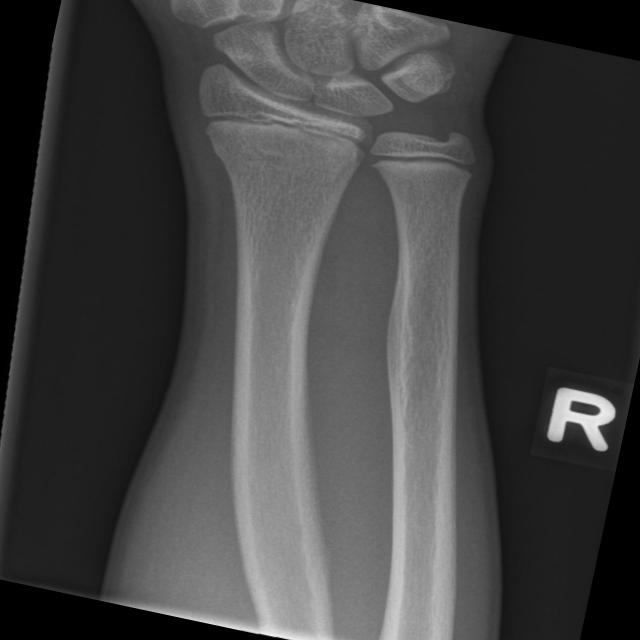fracture: (180, 84, 387, 178), (358, 128, 494, 200)
